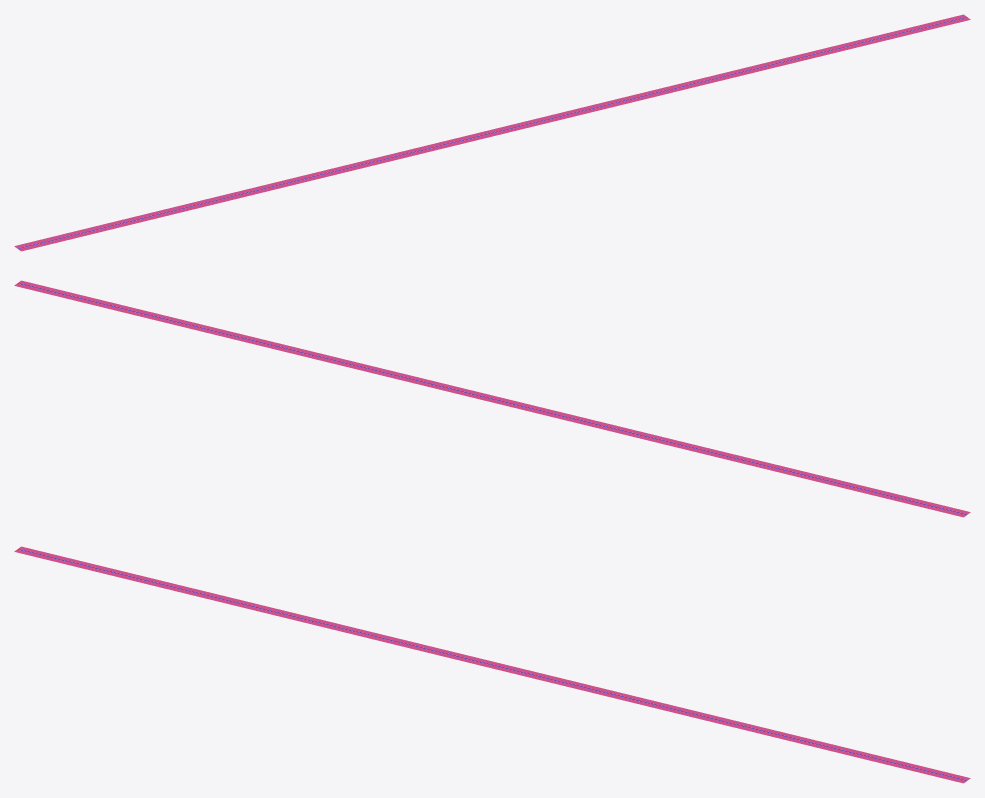
The model's file is FlatRoad.fbx.
The picture shows the model from 3 angles, top to bottom: view 1: azimuth 30°, elevation 25°; view 2: azimuth 150°, elevation 25°; view 3: azimuth 330°, elevation 25°; orthographic projection.
Visible parts, largest first — view 1: Cube; view 2: Cube; view 3: Cube.
Boxes of the visible parts, x1,y1,x2,y2 form: Cube: (14, 14, 970, 251); Cube: (14, 280, 970, 517); Cube: (14, 546, 970, 783).
Size of the model in its own units: 510000 by 30 by 6750.
